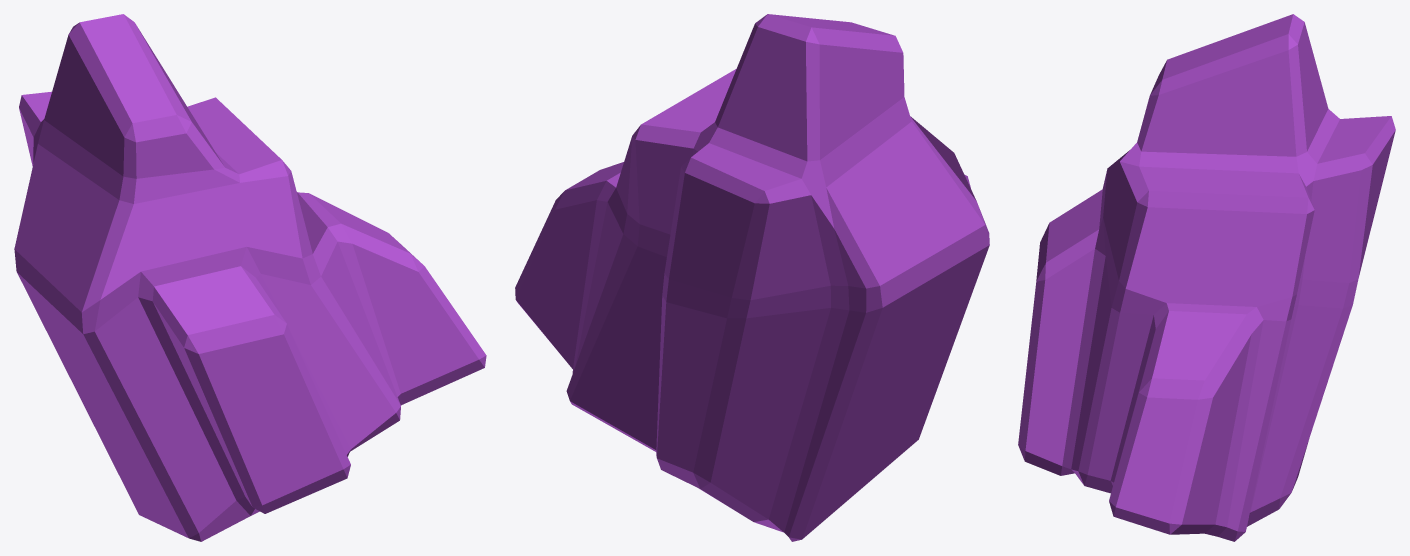
File: Factory_Stone_3.fbx
3 views of the same model, side by side, from view 1: azimuth 30°, elevation 25°; view 2: azimuth 150°, elevation 25°; view 3: azimuth 270°, elevation 25° (orthographic). The views are drawn at different scales.
Visible parts, largest first — view 1: Factory Stone 3; view 2: Factory Stone 3; view 3: Factory Stone 3.
Boxes of the visible parts, <box> form: Factory Stone 3: <box>14,14,486,541</box>; Factory Stone 3: <box>515,14,989,541</box>; Factory Stone 3: <box>1018,14,1395,541</box>.
Size of the model in its own units: 2510 by 2903 by 2060.
